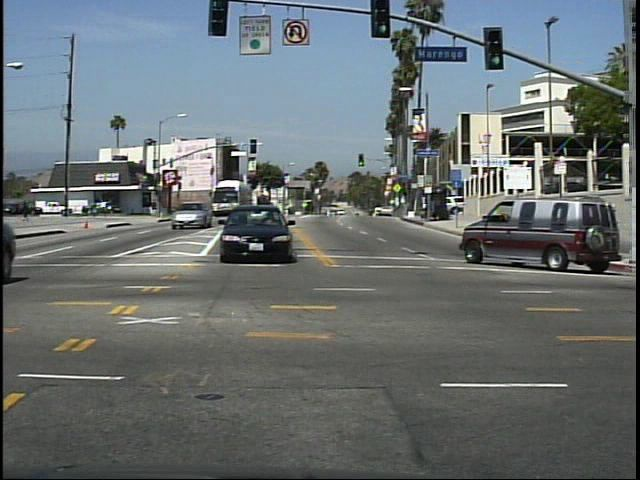person: (20, 198, 35, 226)
